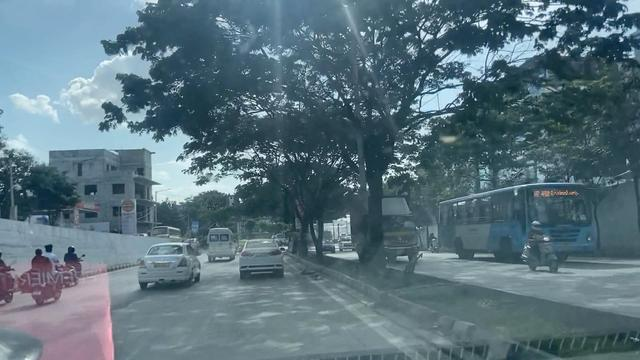HMV: (208, 227, 231, 261)
LMV: (142, 242, 193, 288), (33, 241, 61, 301), (242, 238, 282, 276), (64, 243, 83, 278)
